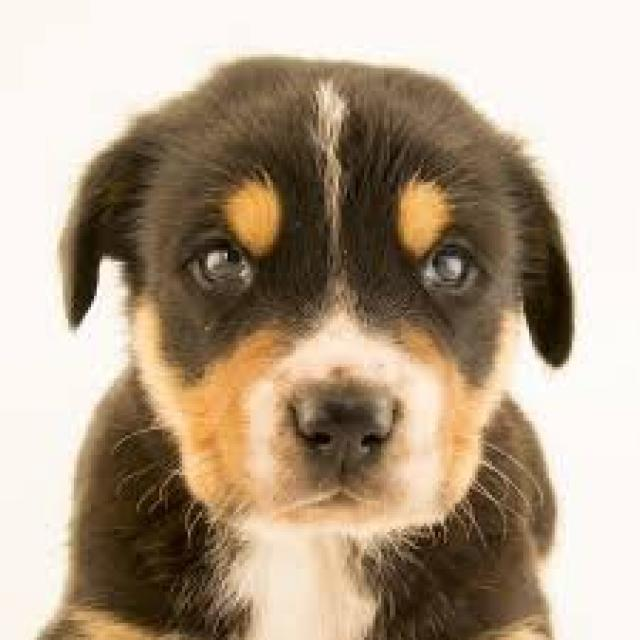Dog: (31, 54, 578, 640)
